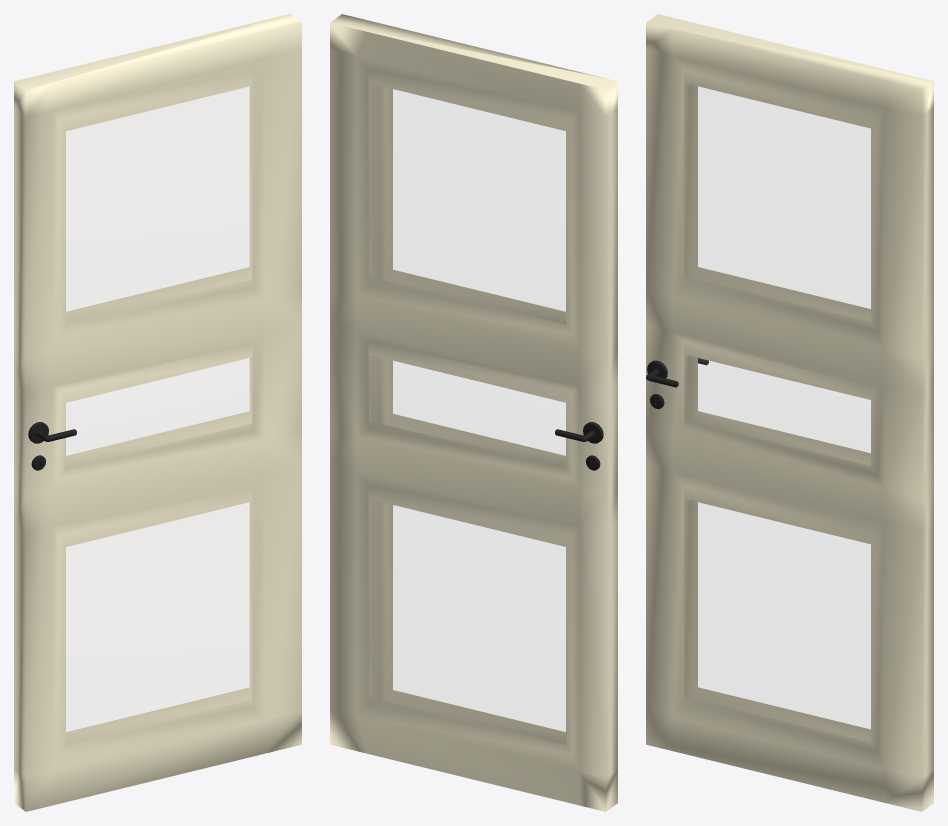
File: 11b465b8-8bb6-4ae2-b280-32dcf4a6e7f8.glb
The picture shows the model from 3 angles, left to right: view 1: azimuth 30°, elevation 25°; view 2: azimuth 150°, elevation 25°; view 3: azimuth 330°, elevation 25°; orthographic projection.
Parts seen in each view (by area): view 1: Door.014; view 2: Door.014; view 3: Door.014.
Part boxes in pixels (box(x1,y1,x2,y2)): Door.014: box(14, 14, 301, 811); Door.014: box(330, 14, 617, 811); Door.014: box(646, 14, 933, 811).
Size of what is drawn, in the model's own units: 0.8628 by 2.16 by 0.1816.
Materials: 3 (3 with a texture image).
